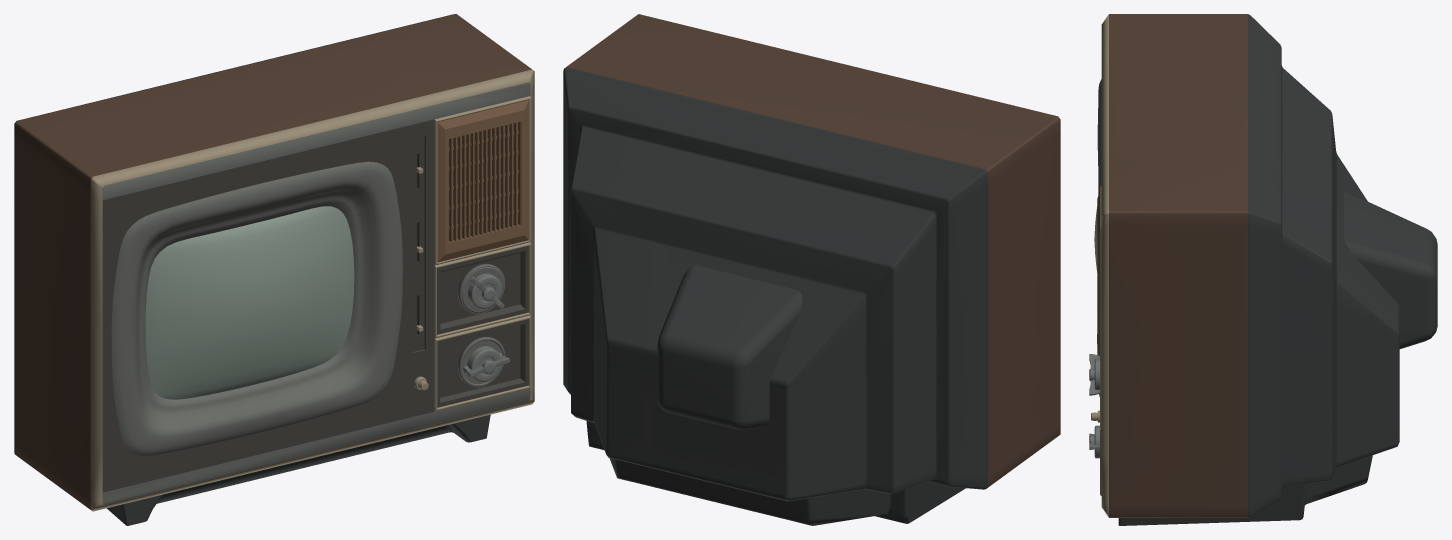
3 views of the same model, side by side, from view 1: azimuth 30°, elevation 25°; view 2: azimuth 150°, elevation 25°; view 3: azimuth 270°, elevation 25° (orthographic). The views are drawn at different scales.
Parts seen in each view (by area): view 1: slider3; view 2: slider3; view 3: slider3.
Part boxes in pixels (x1,y1,x2,y2): slider3: [14, 14, 534, 525]; slider3: [563, 14, 1060, 525]; slider3: [1089, 14, 1437, 525].
Bounding box in the file's own units: 1.26 × 0.9811 × 0.9308.
